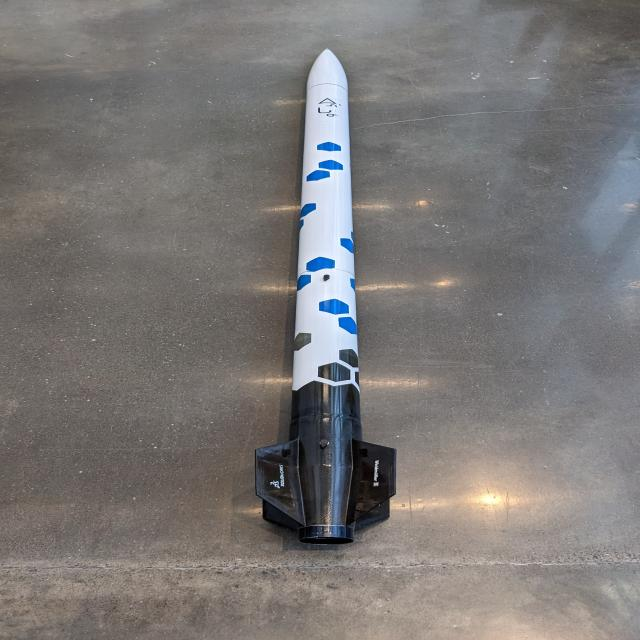Rocket: (254, 47, 397, 546)
